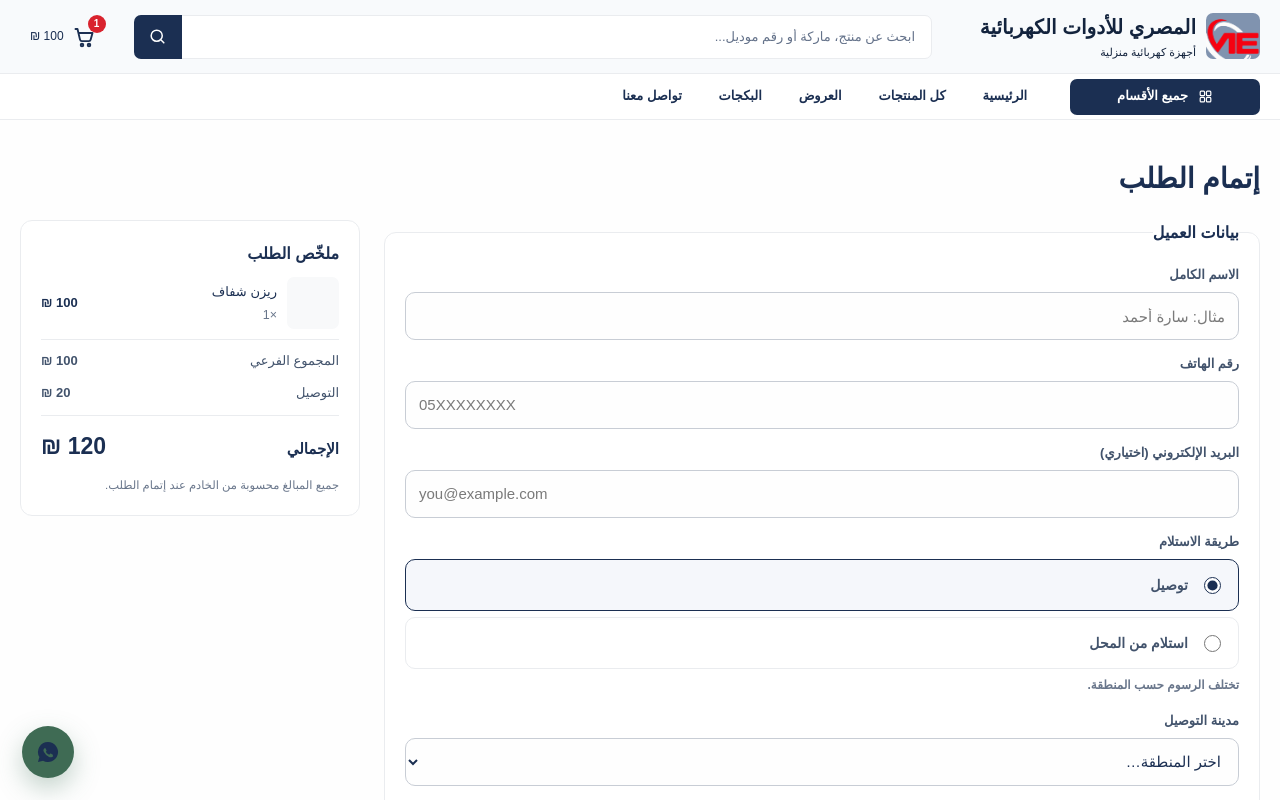
Test: public storefront › shows configured pickup guidance and area fees at checkout
Click the radio button labelled "استلام من المحل" at (1212,644), box [1204, 635, 1221, 652]
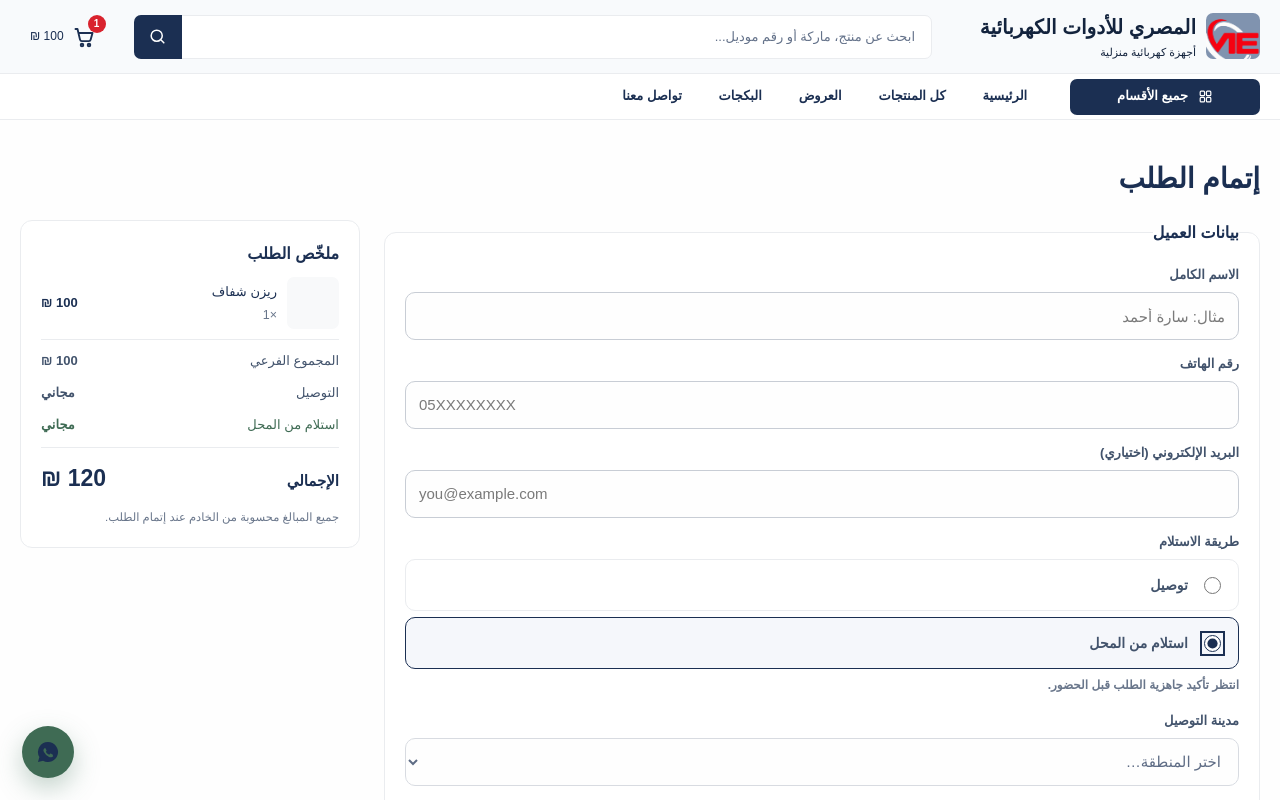
Expected: the text "انتظر تأكيد جاهزية الطلب قبل الحضور." is shown, [1048, 678, 1239, 692]
